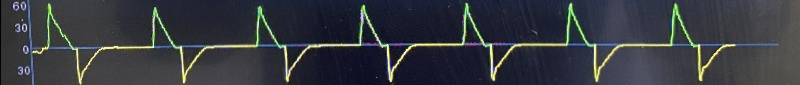normal_flow: (24, 1, 744, 85)
